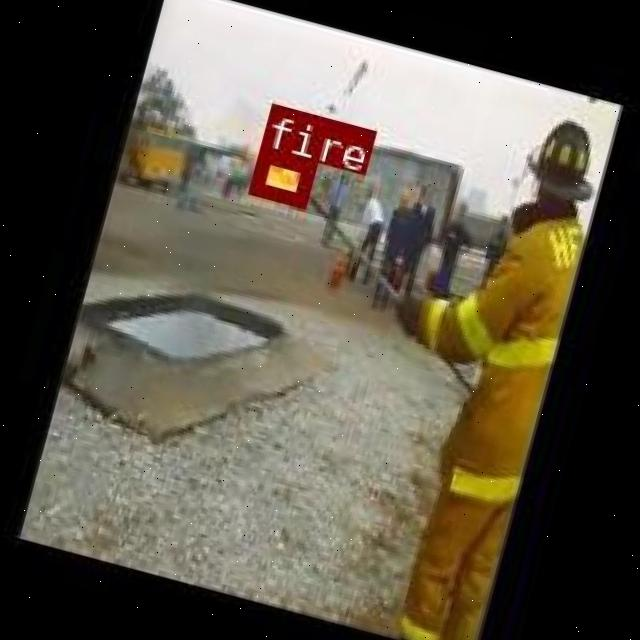fire: (248, 146, 313, 204)
